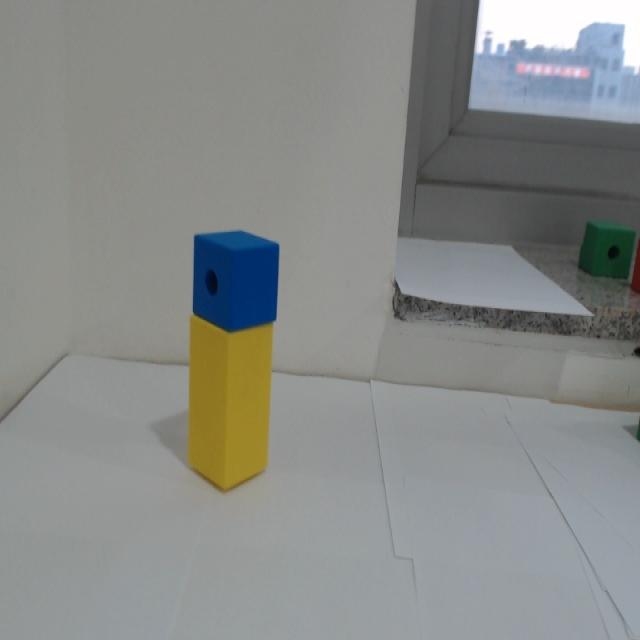cube: (191, 225, 282, 337)
